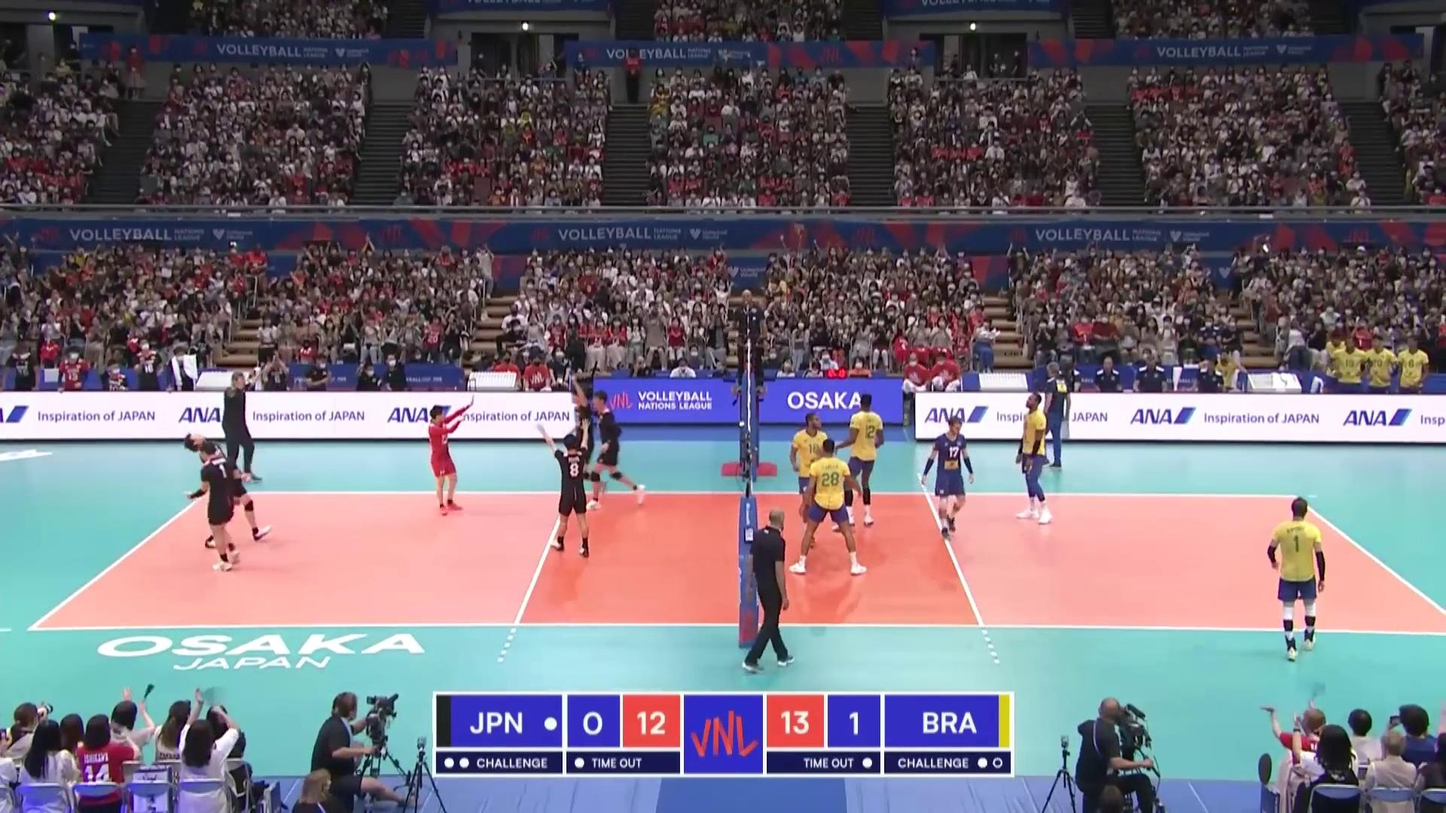player: (793, 438, 869, 574), (183, 434, 272, 547), (1268, 497, 1327, 659), (189, 438, 247, 572), (590, 391, 647, 509), (922, 415, 976, 539), (790, 412, 834, 548), (843, 394, 882, 528), (551, 435, 593, 556), (1017, 392, 1053, 524), (428, 403, 469, 515), (570, 382, 607, 496)
refree: (743, 507, 795, 673), (734, 289, 766, 393)
